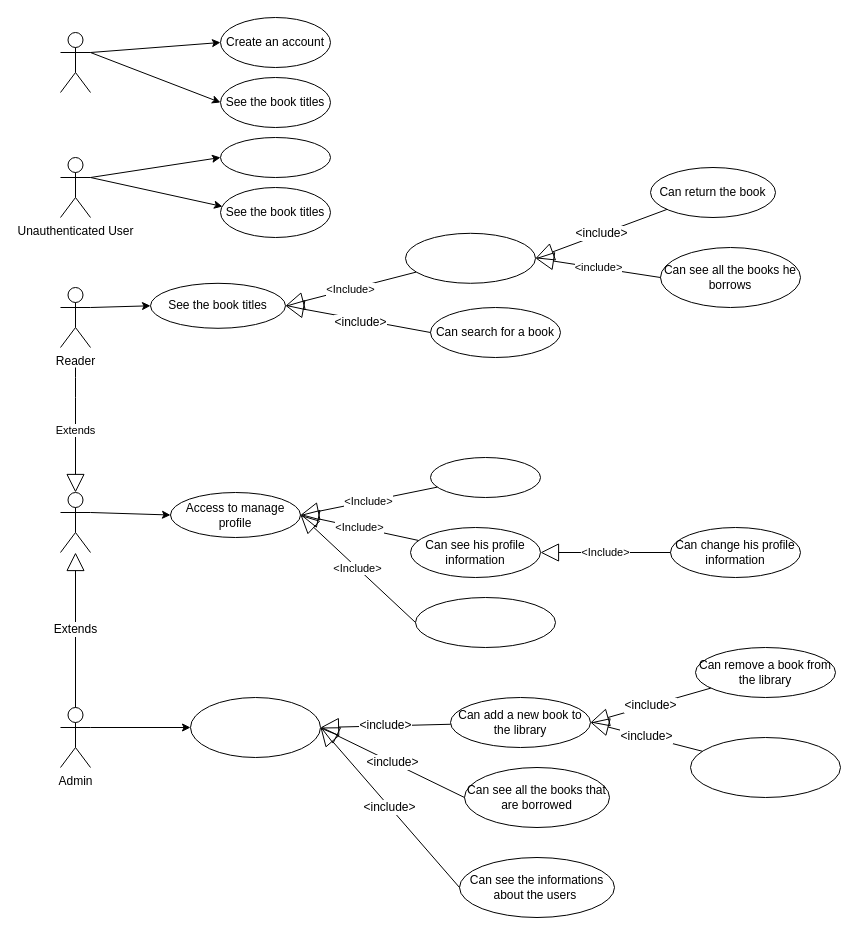
The diagram is 858 pixels wide and 935 high, and some of its shapes have lost their labels. Each missing label, with the centre of its shape:
"Access to manage a library" belongs at [255,727].
"Authenticated User" belongs at [75,522].
"Can borrow a book" belongs at [470,257].
"Can delete the account" belongs at [485,622].
"Can LogIn" belongs at [275,157].
"Can LogOut" belongs at [485,477].
"Can update information about a book in the library" belongs at [765,767].
"Unregistered user" belongs at [75,62].
